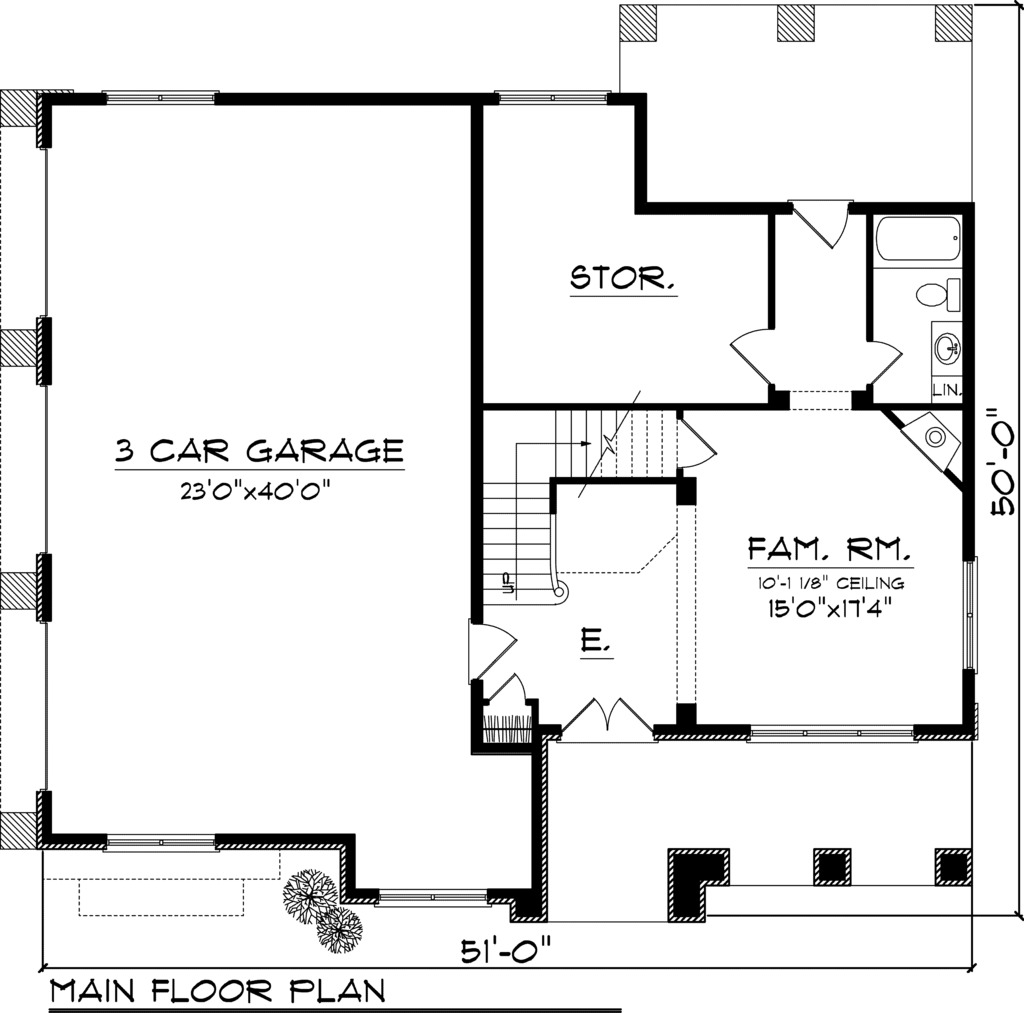door: (554, 697, 668, 741), (792, 185, 857, 260), (673, 408, 726, 481), (462, 617, 520, 677), (723, 327, 776, 388), (484, 672, 550, 713), (861, 338, 900, 380)
large_sink: (912, 275, 965, 320)
small_sink: (929, 325, 964, 386)
stairs: (471, 381, 671, 622)
tub: (876, 211, 976, 264)
window: (731, 702, 918, 744), (93, 81, 239, 116), (953, 564, 987, 689), (364, 880, 500, 906), (100, 828, 215, 855), (498, 88, 618, 108)
